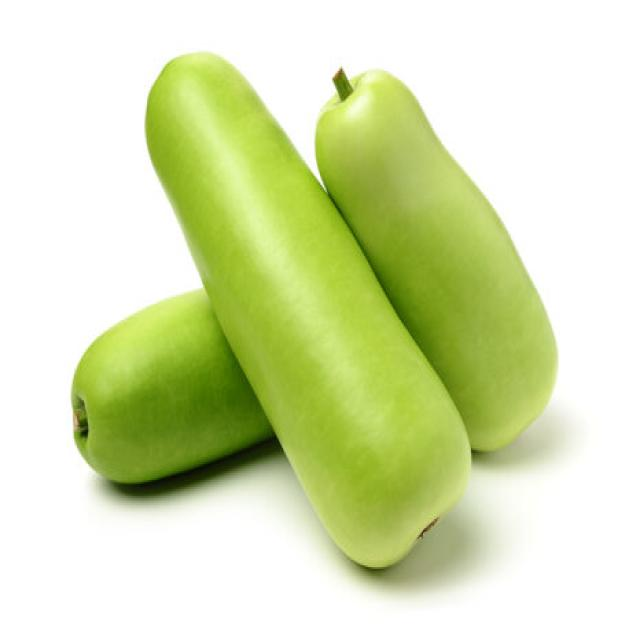Bottle Gourd: (143, 48, 472, 569), (313, 64, 558, 453), (70, 286, 276, 486)
